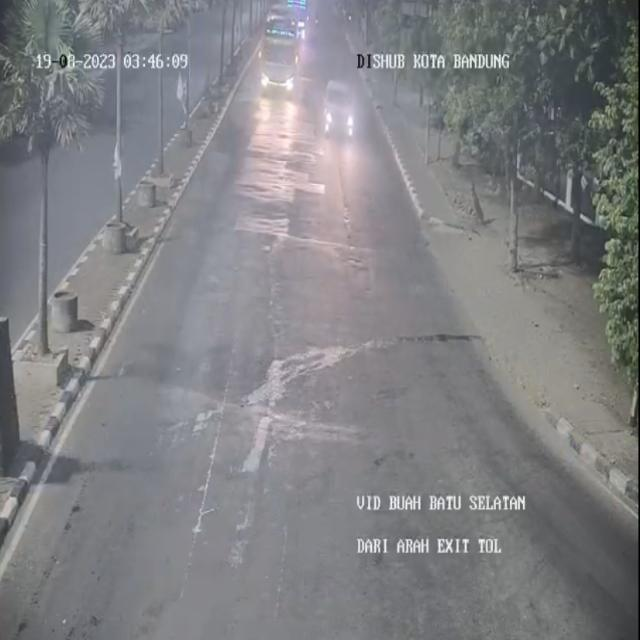bus: (258, 29, 303, 100)
cars: (321, 75, 363, 141)
